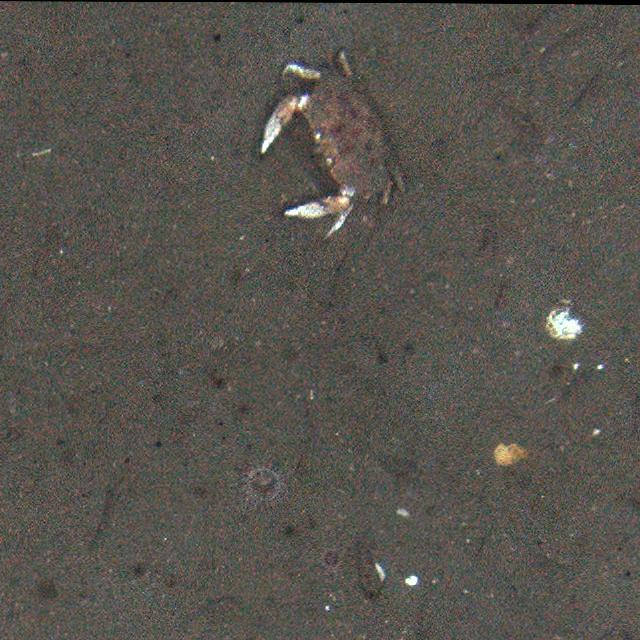crab: (263, 46, 409, 230)
